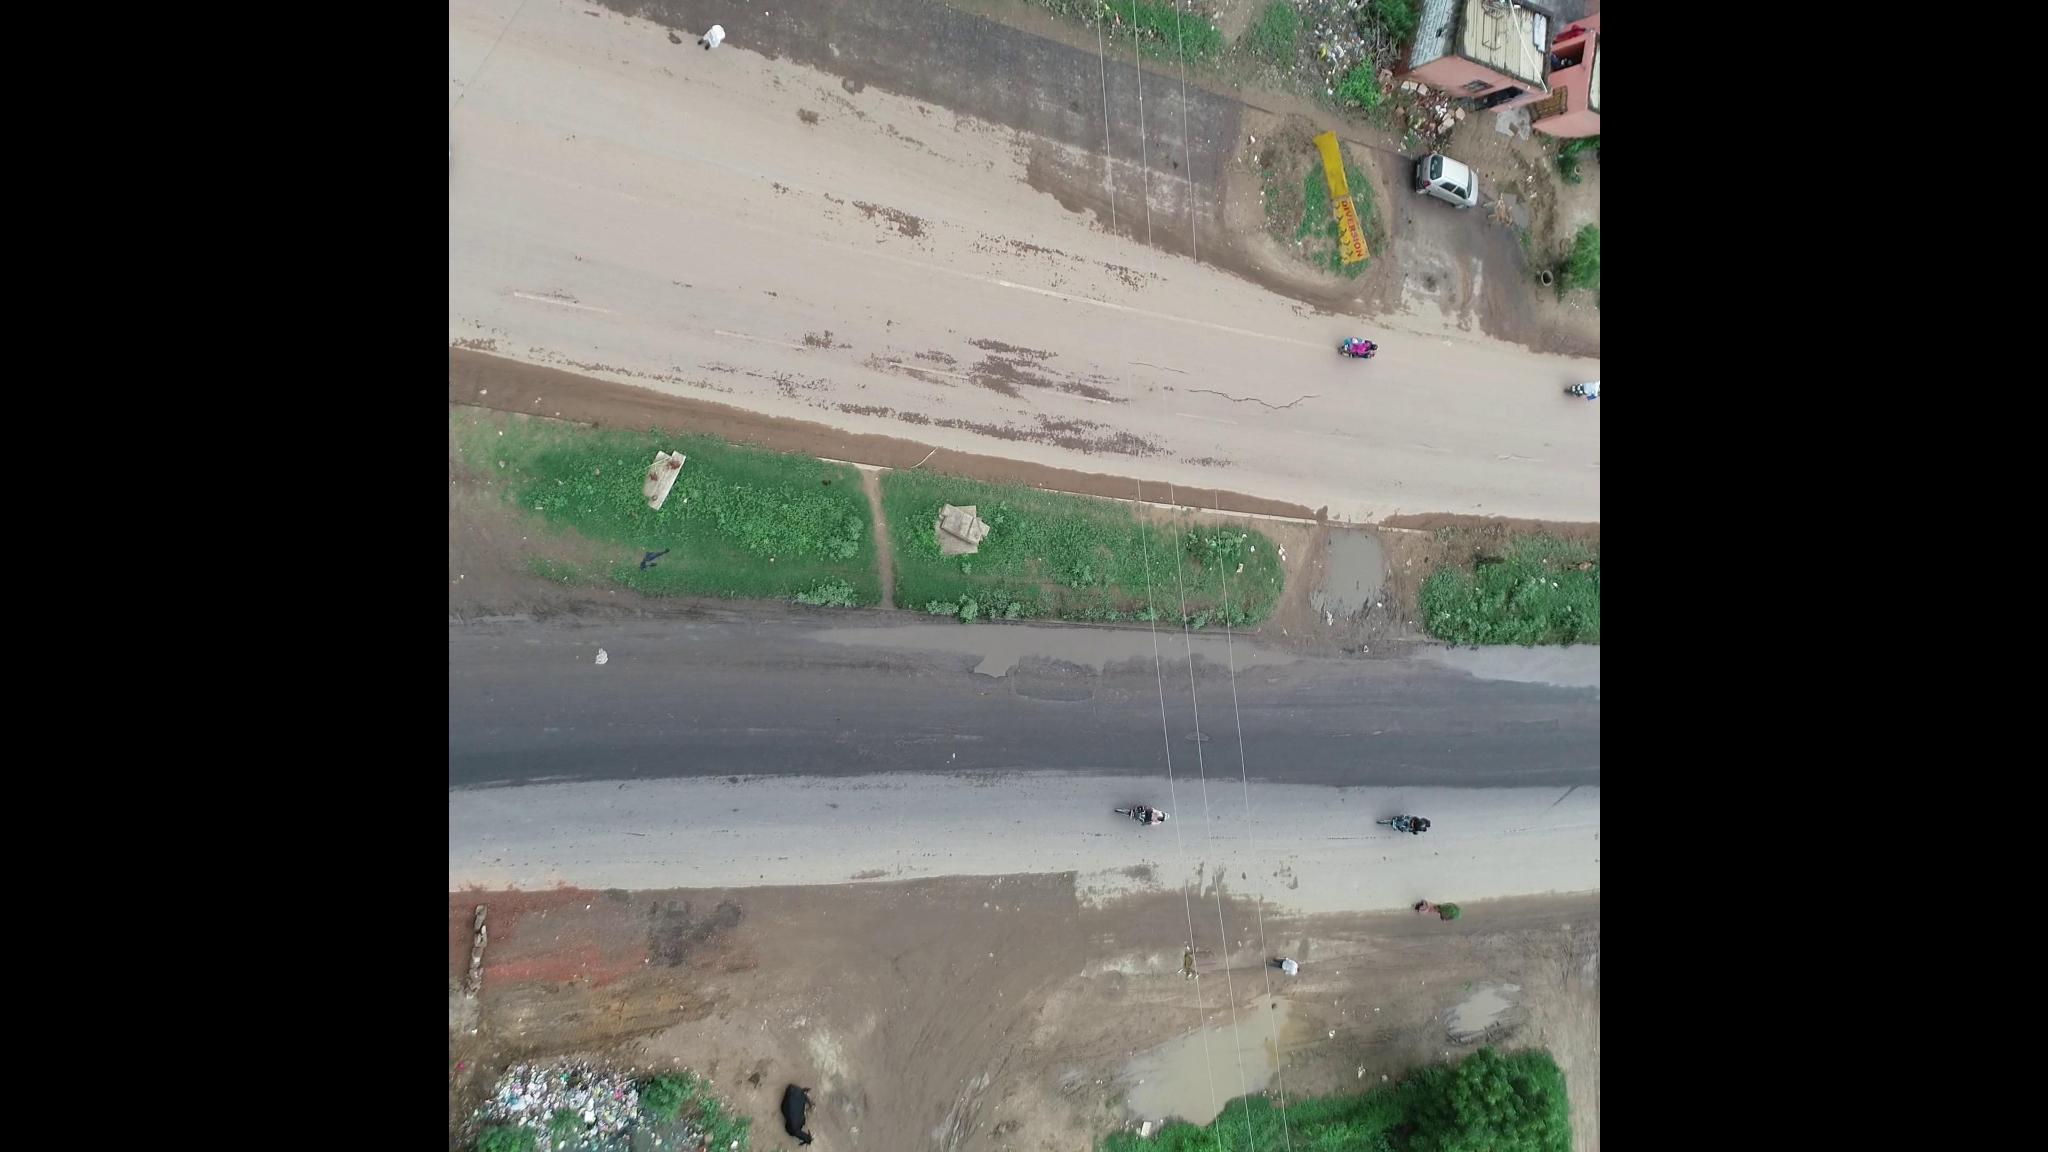Cracks: (1155, 373, 1331, 416)
